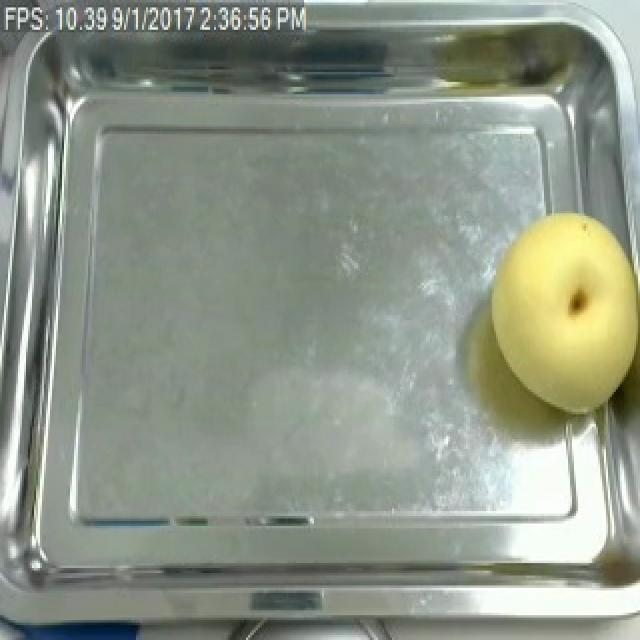Fruit: (478, 198, 640, 422)
